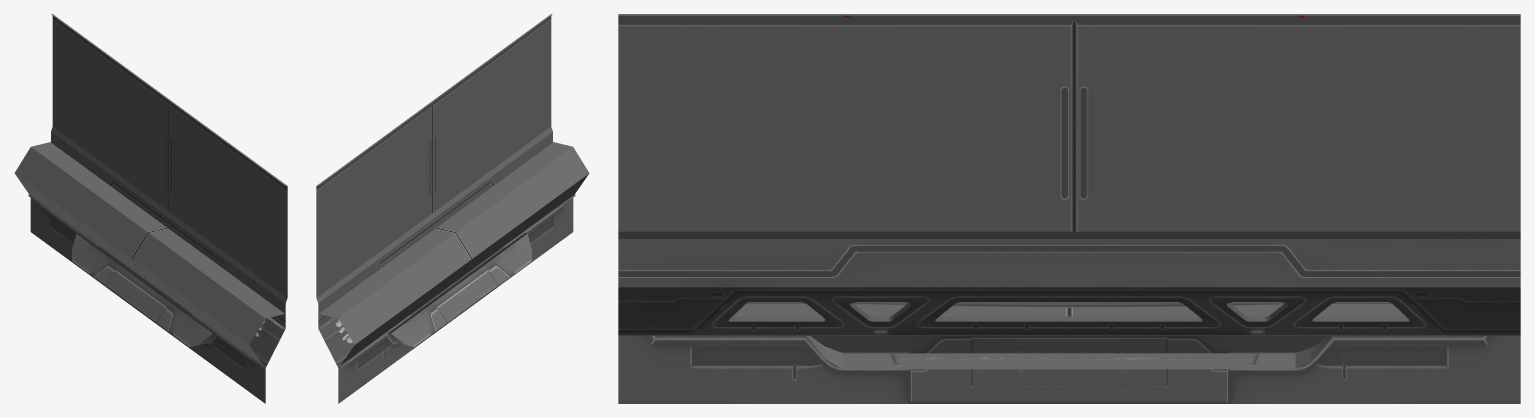
Rendered from S_TopCablesStraight.gltf.
3 renders of one model, left to right at view 1: azimuth 30°, elevation 25°; view 2: azimuth 150°, elevation 25°; view 3: azimuth 270°, elevation 25°, orthographic. The views are drawn at different scales.
Visible parts, largest first — view 1: Plane_088-col; view 2: Plane_088-col; view 3: Plane_088-col.
Part boxes in pixels (x1=…): Plane_088-col: x1=14, y1=14, x2=287, y2=403; Plane_088-col: x1=316, y1=14, x2=589, y2=403; Plane_088-col: x1=618, y1=14, x2=1520, y2=403.
Size of the model in its own units: 0.3839 by 2 by 4.
Materials: 4 (4 with a texture image).
